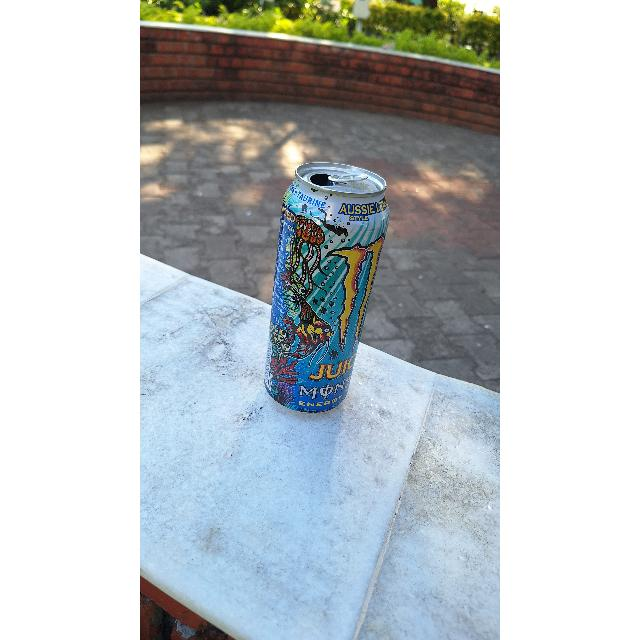Monster Aussie Lemonade: (261, 172, 399, 412)
